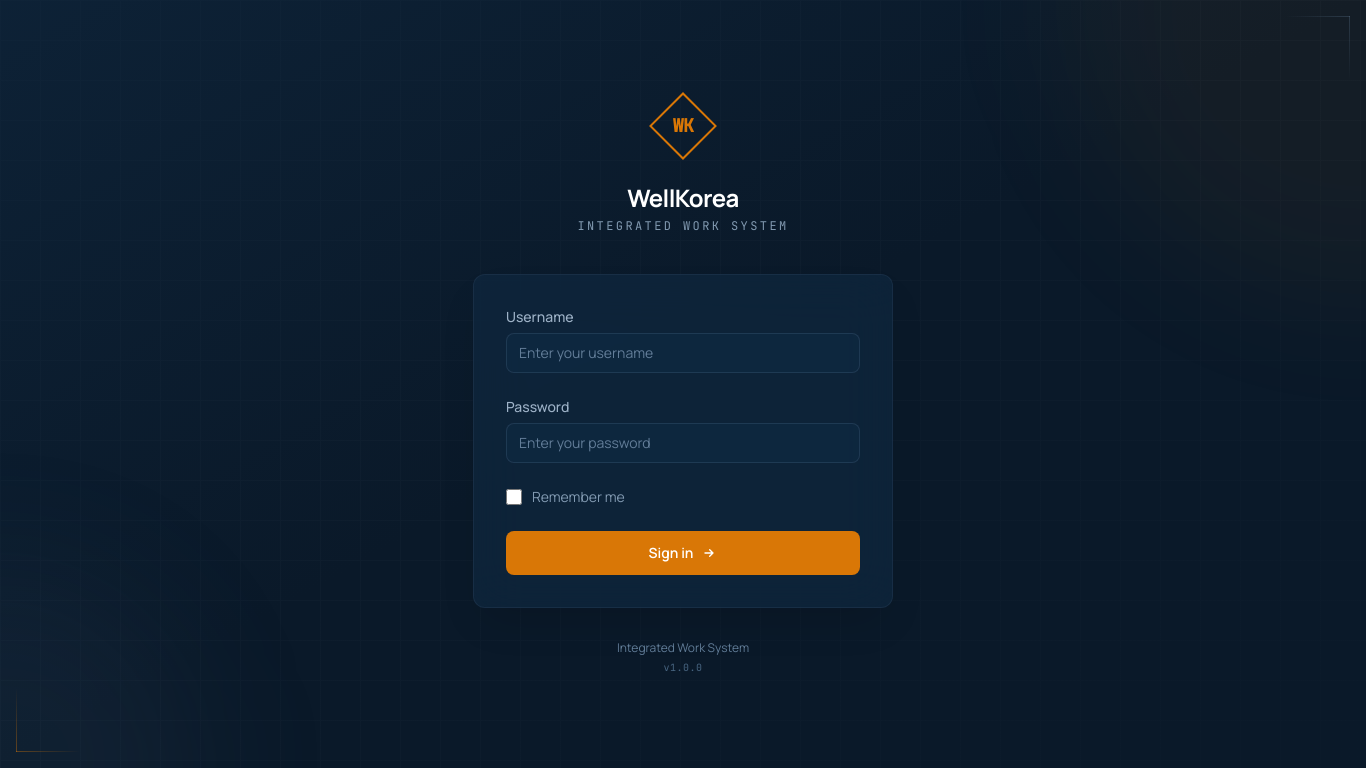
Test: LoginPage › error handling › should allow dismissing error message
Click the button "Sign in": (683, 552) [506,530,860,574]
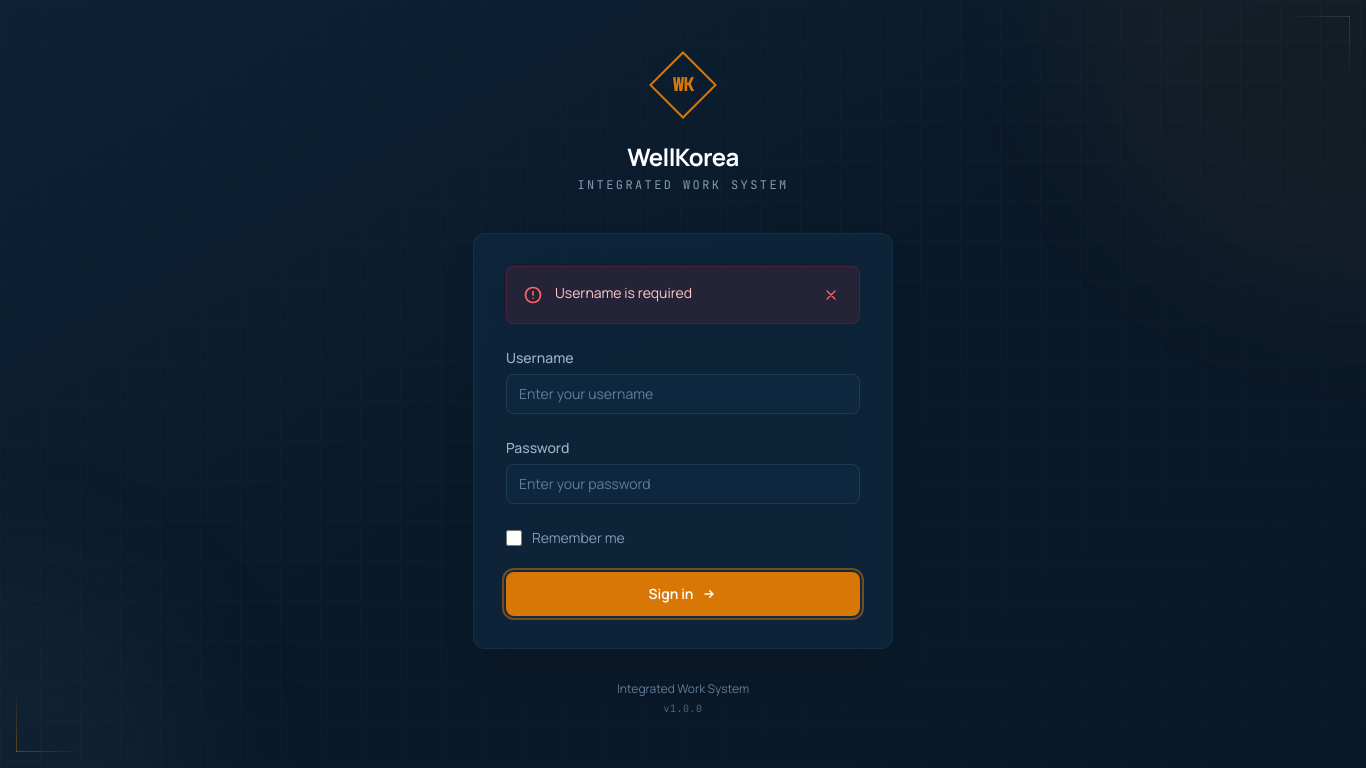
Expected: the text "Username is required" is shown, [555,282,692,302]
In the field labelled "Username": (683, 394) [506,374,860,414], type "wrong"
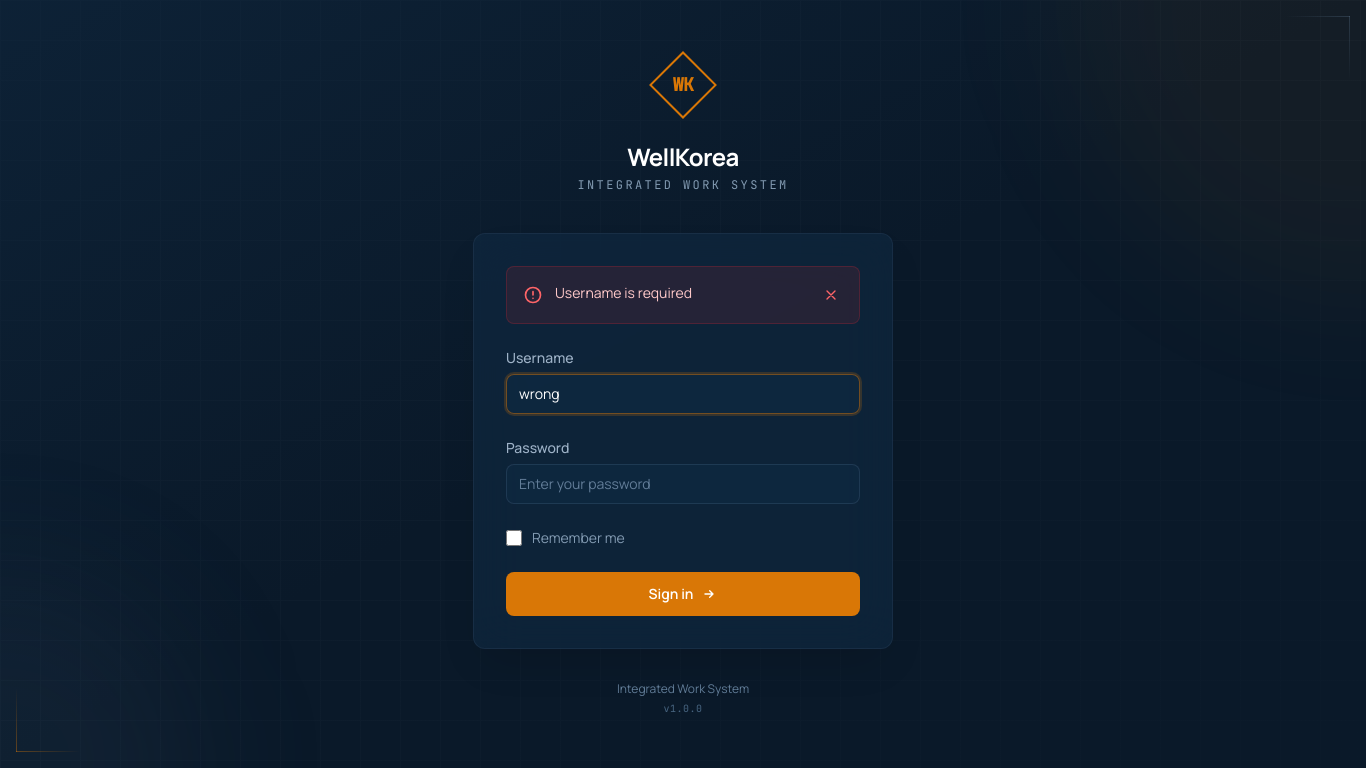
In the password field labelled "Password": (683, 484) [506,464,860,504], type "wrong"
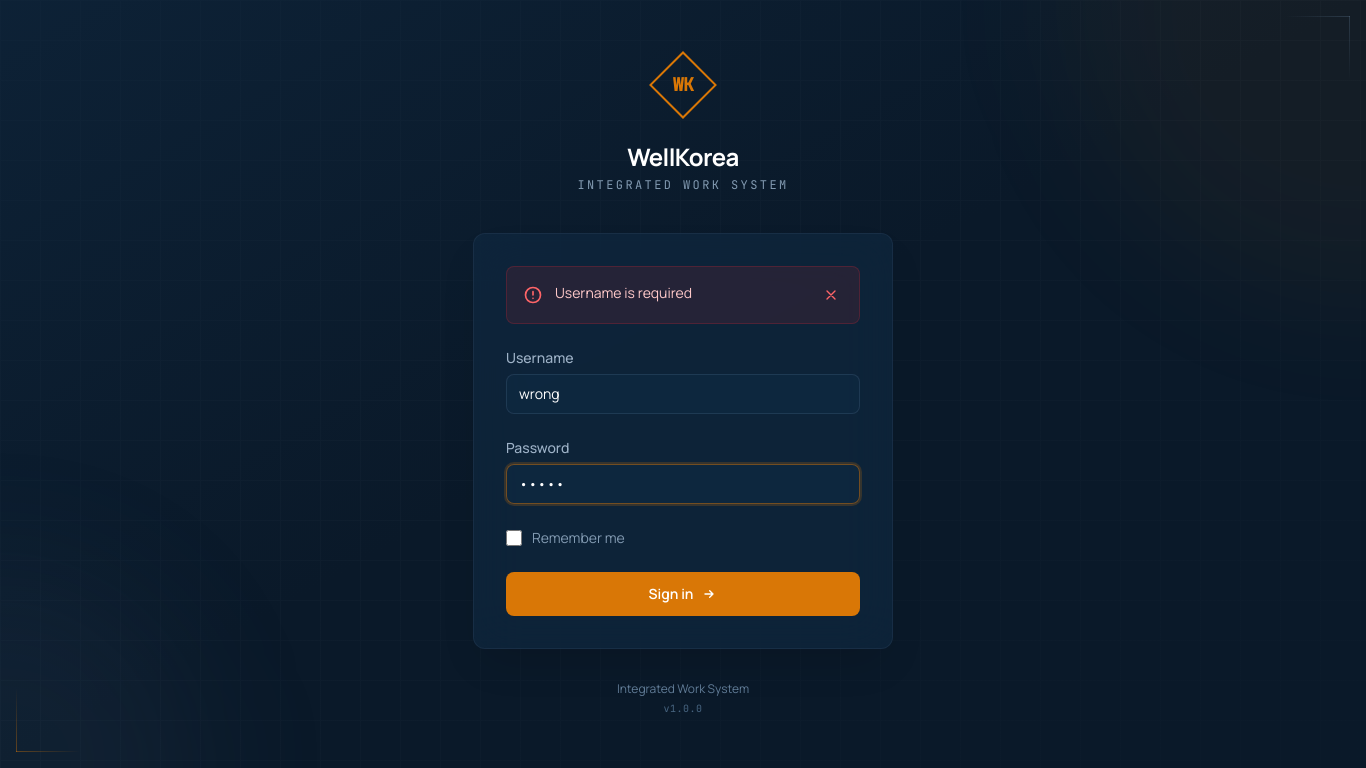
Click the button "Sign in": (683, 594) [506,572,860,616]
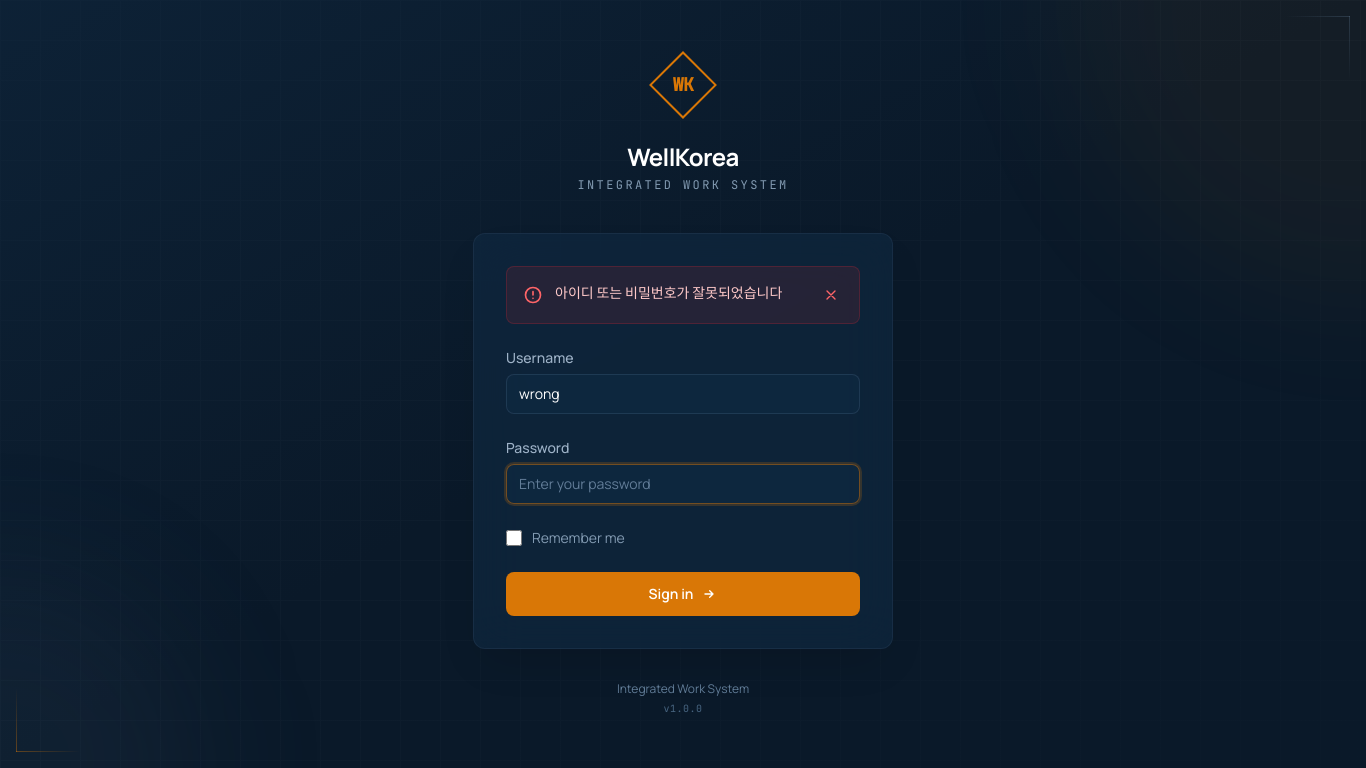
Expected: the message "아이디 또는 비밀번호가 잘못되었습니다" is shown, [506,266,860,324]
Expected: the text "아이디 또는 비밀번호가 잘못되었습니다" is shown, [555,282,807,302]
Click the button named "Dismiss error": (831, 294) [819,282,843,306]
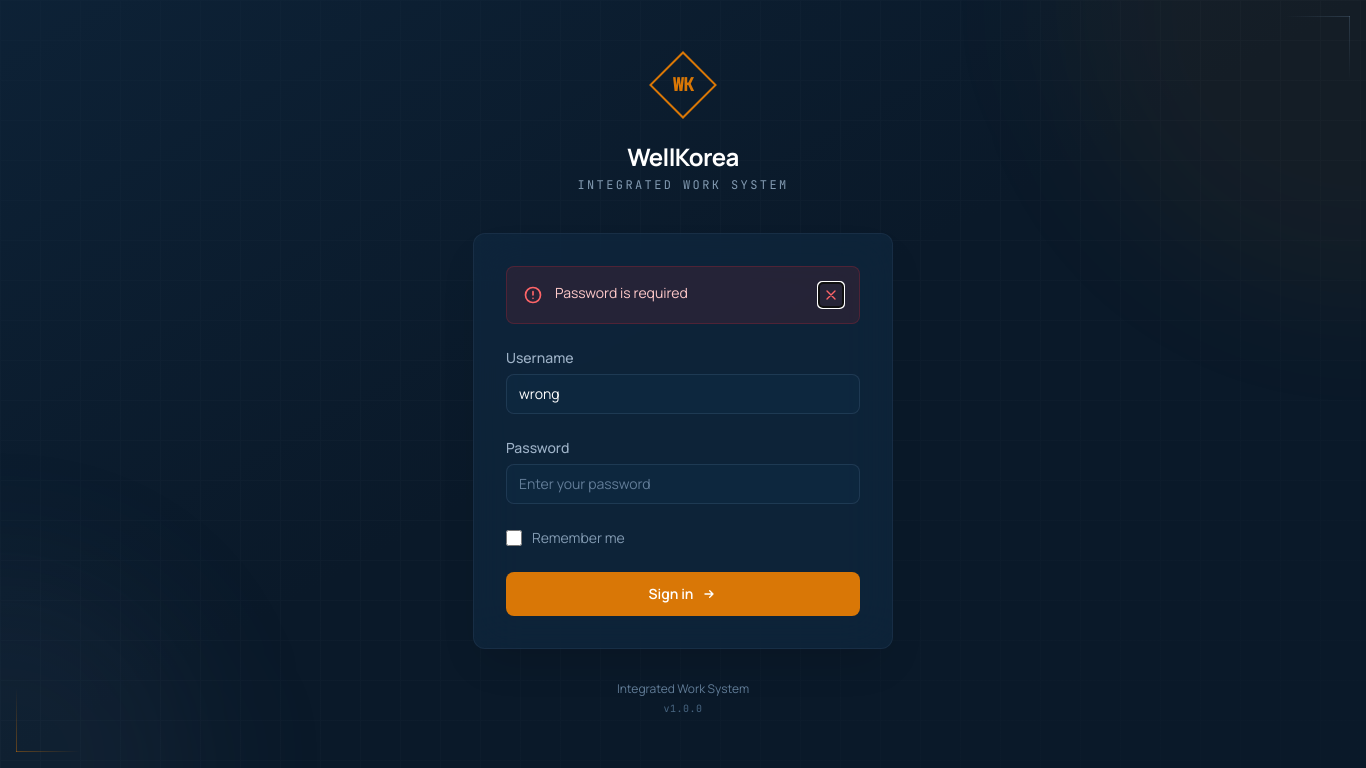
Expected: the text "아이디 또는 비밀번호가 잘못되었습니다" is gone
